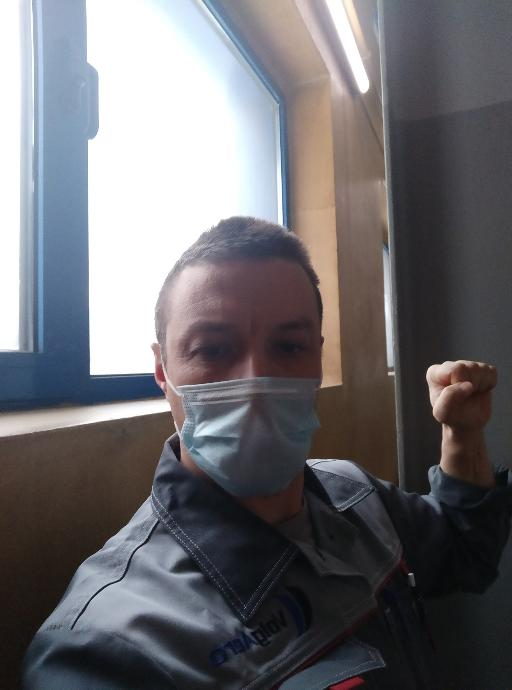fist: (420, 353, 501, 435)
